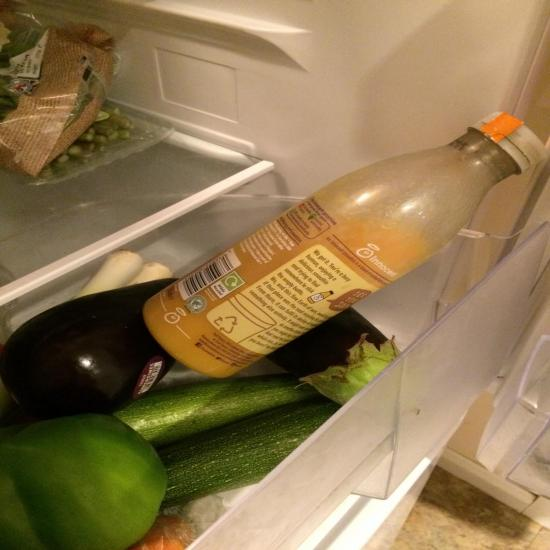Clear plastic bottle: (142, 110, 548, 378)
Disposable food container: (0, 99, 174, 185)
Plastic bottle cap: (478, 110, 548, 166)
Plastic film: (0, 0, 121, 179)
